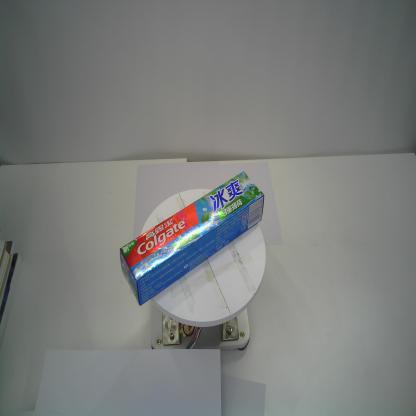Personal Hygiene: (115, 170, 266, 308)
